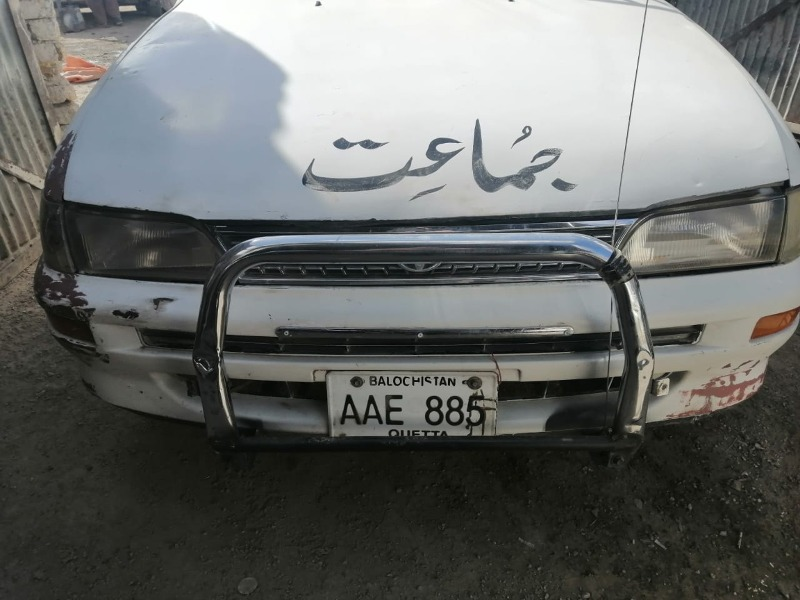License Plate: (320, 366, 504, 443)
